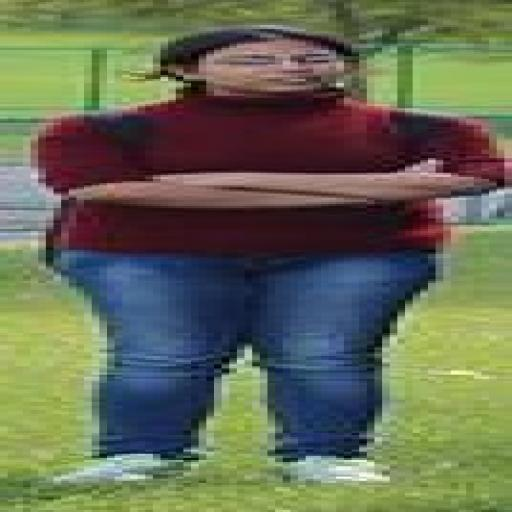person: (39, 25, 504, 482)
